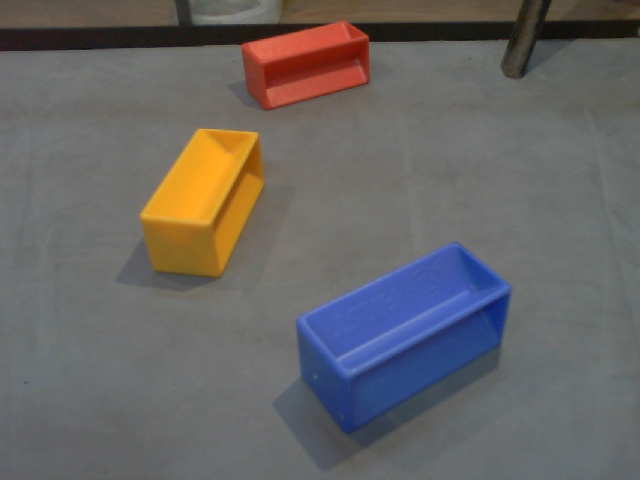BlueSample: (290, 237, 514, 437)
RedSample: (237, 19, 375, 113)
YellowSample: (134, 120, 266, 283)
